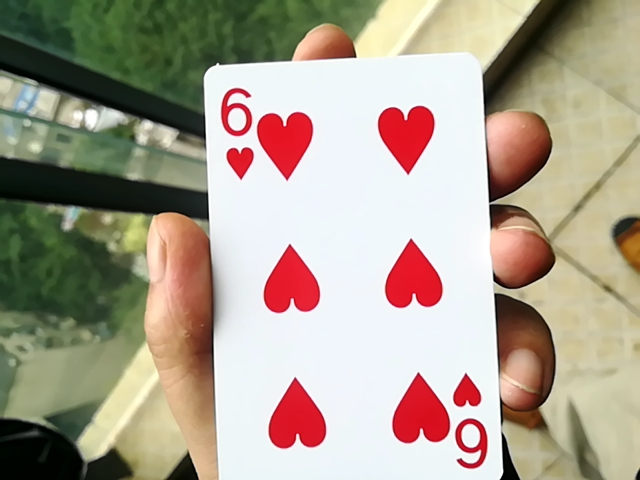hx 6: (192, 52, 511, 478)
